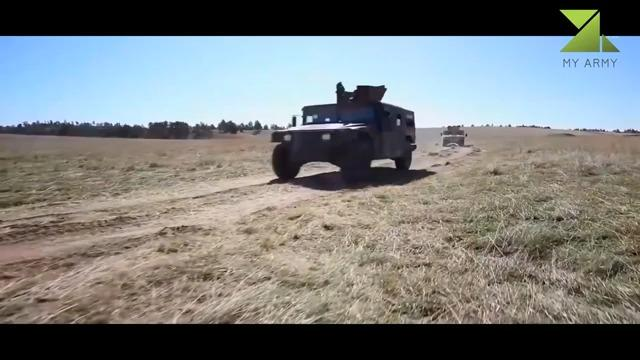MIL_HMMWV: (268, 101, 418, 184), (440, 128, 467, 147)
